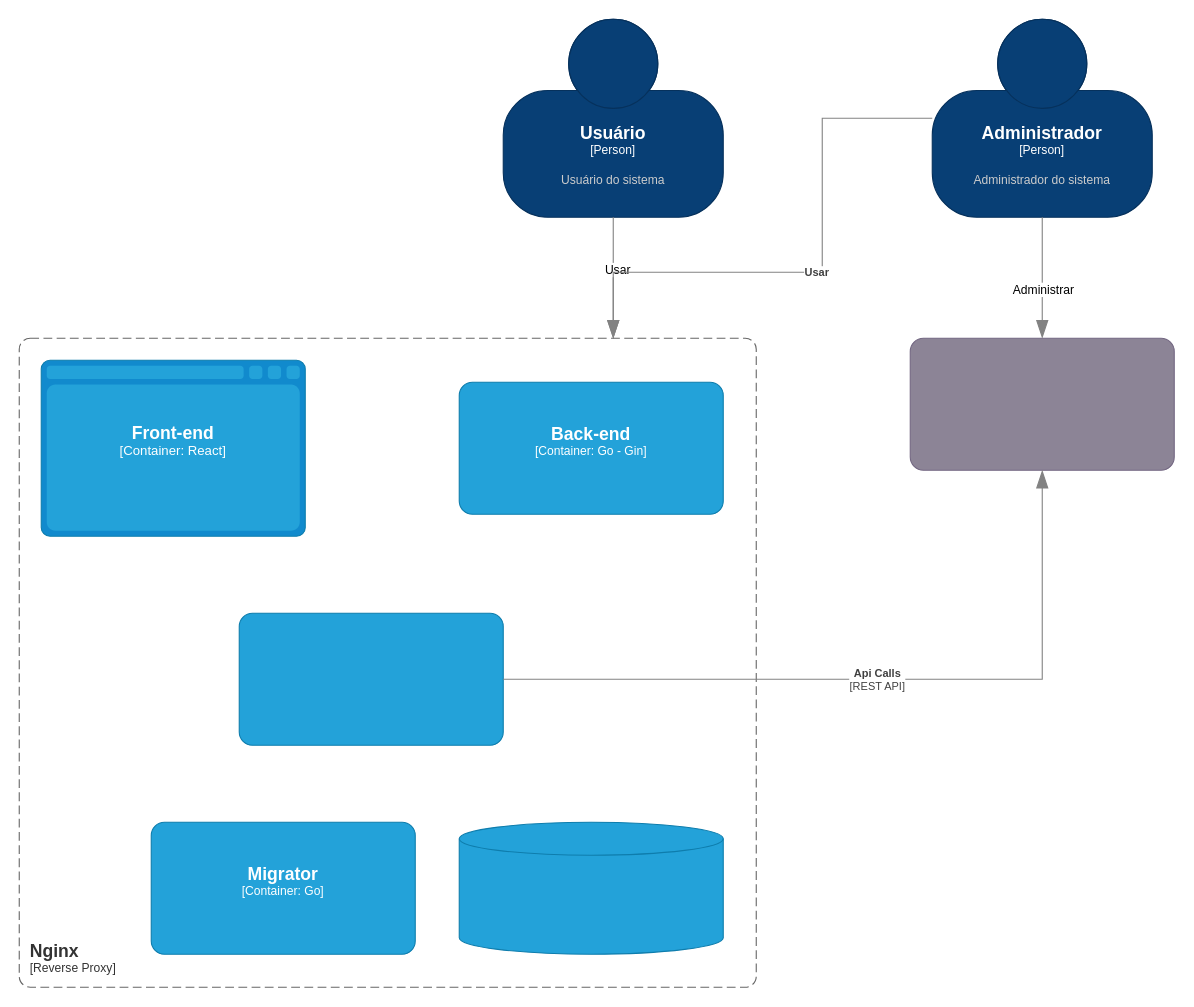
Image size: 1194x1007. Some labels were removed from this diagram. Each missing label, with the centre of its shape:
"Database [Container: PostgreSQL]" belongs at [590,887].
"DcModder [Container: TypeScript]" belongs at [370,678].
"Discord [Software System] Sistema de administração" belongs at [1041,403].
